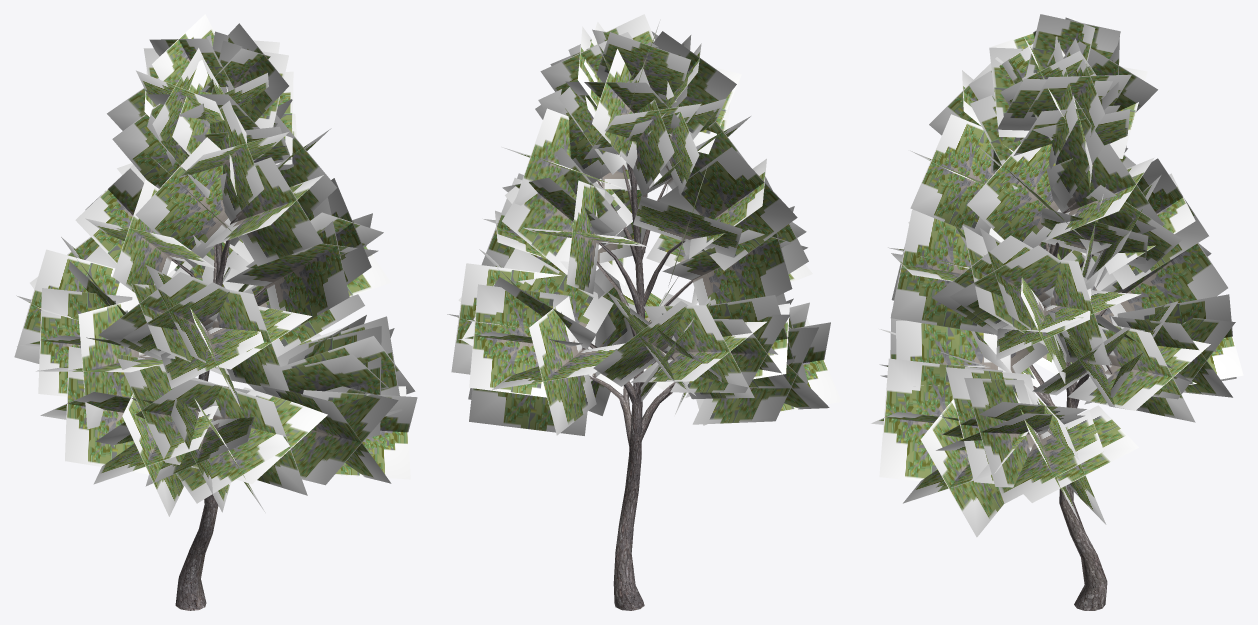
File: tree.glb
3 views of the same model, side by side, from view 1: azimuth 30°, elevation 25°; view 2: azimuth 150°, elevation 25°; view 3: azimuth 270°, elevation 25° (orthographic). The views are drawn at different scales.
Parts seen in each view (by area): view 1: Mobile_Tree_2; view 2: Mobile_Tree_2; view 3: Mobile_Tree_2.
Part boxes in pixels (x1,y1,x2,y2): Mobile_Tree_2: (14, 14, 417, 610); Mobile_Tree_2: (447, 14, 841, 610); Mobile_Tree_2: (871, 14, 1243, 610).
Size of the model in its own units: 12.46 by 20.25 by 11.67.
Materials: 2 (2 with a texture image).
